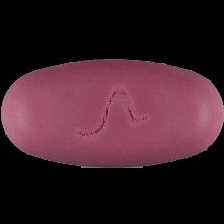53808-0681: (0, 0, 224, 224)
